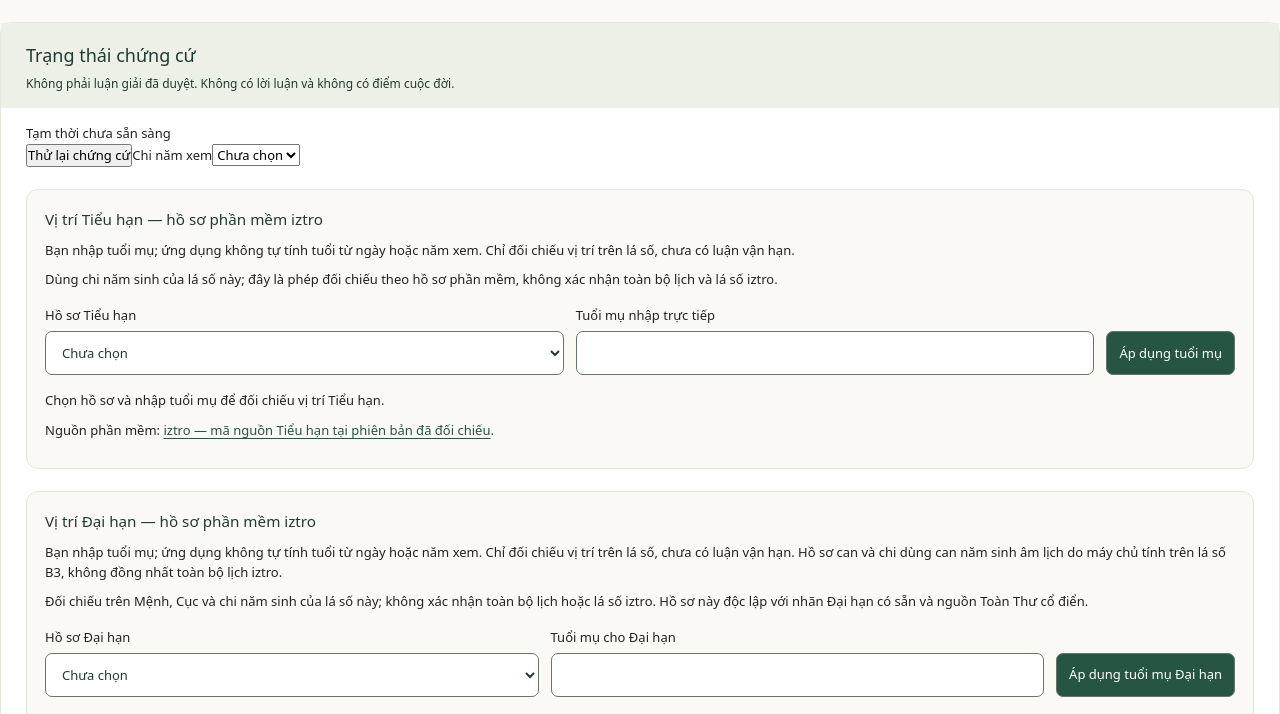
Scenario: StructuredAnalysis › suppresses an old response with the same birth key after a newer attempt succeeds
Click the button "Thử lại chứng cứ": point(79, 155) x1=26 y1=144 x2=132 y2=167
(page scrolled)
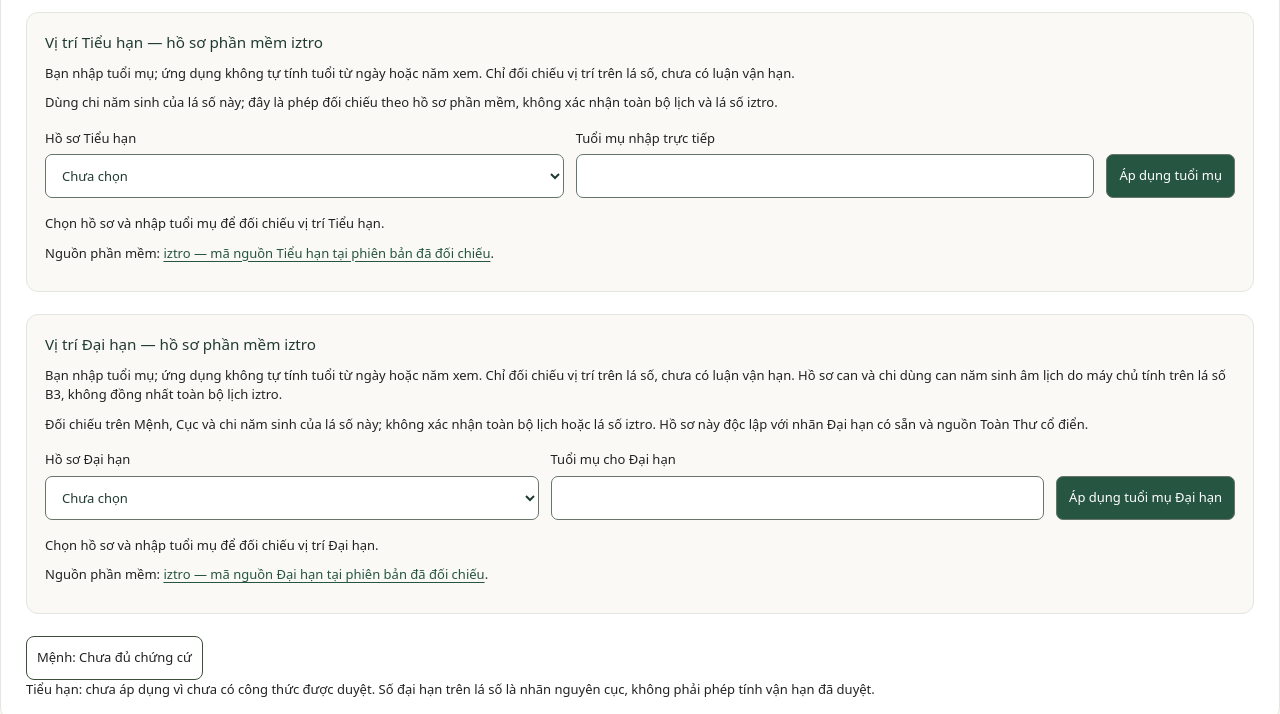
Click the button "Mệnh: Chưa đủ chứng cứ": point(114, 658) x1=26 y1=636 x2=203 y2=680
(page scrolled)
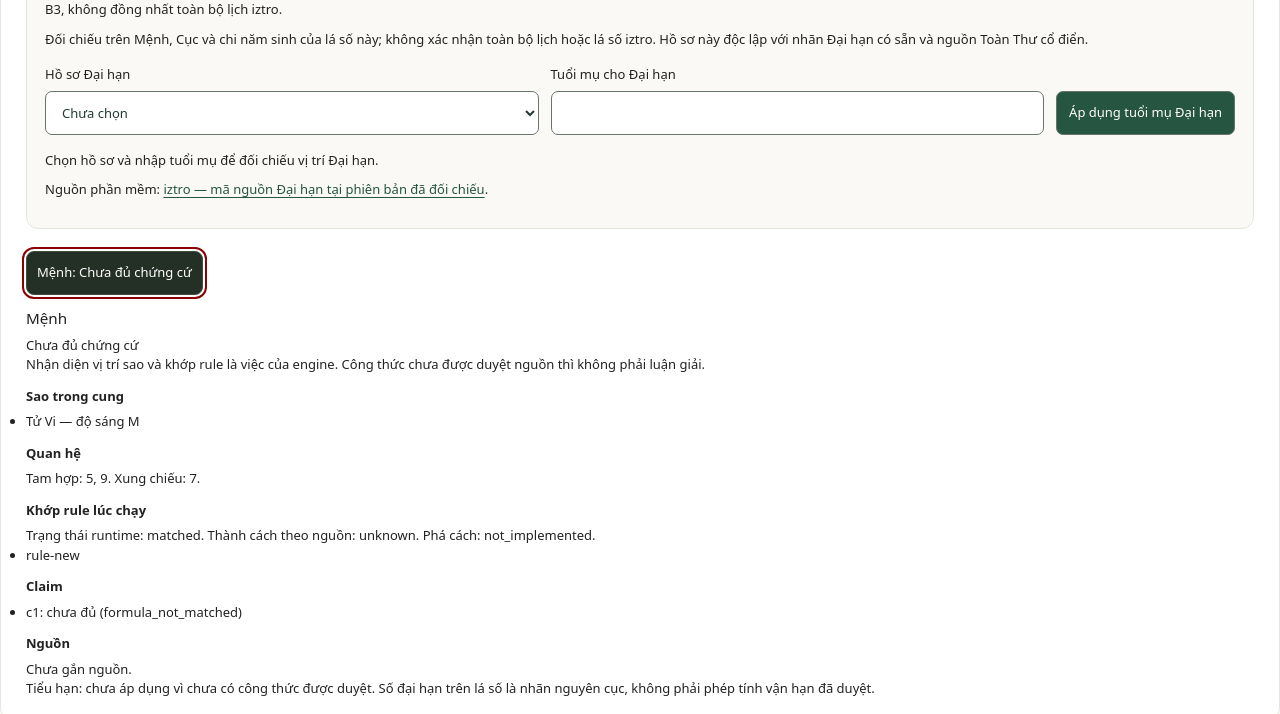
expect the list item "rule-new" is shown: met, box x1=26 y1=546 x2=80 y2=564
